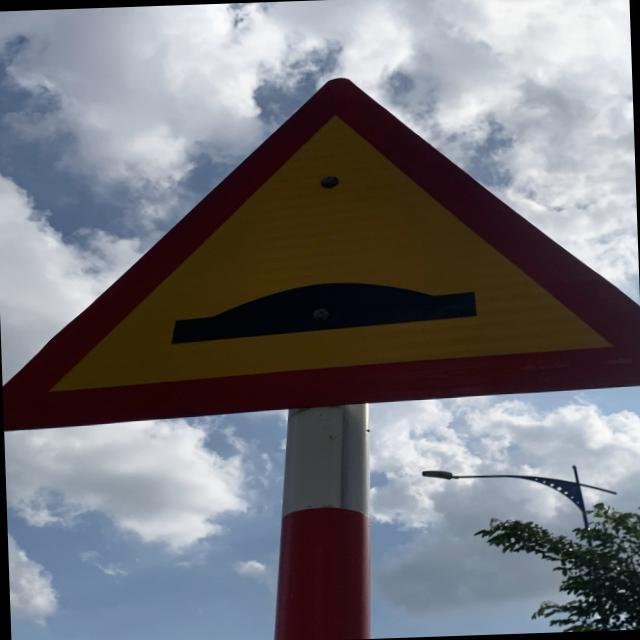Duong_Cong_Ben_Phai: (0, 64, 640, 438)
